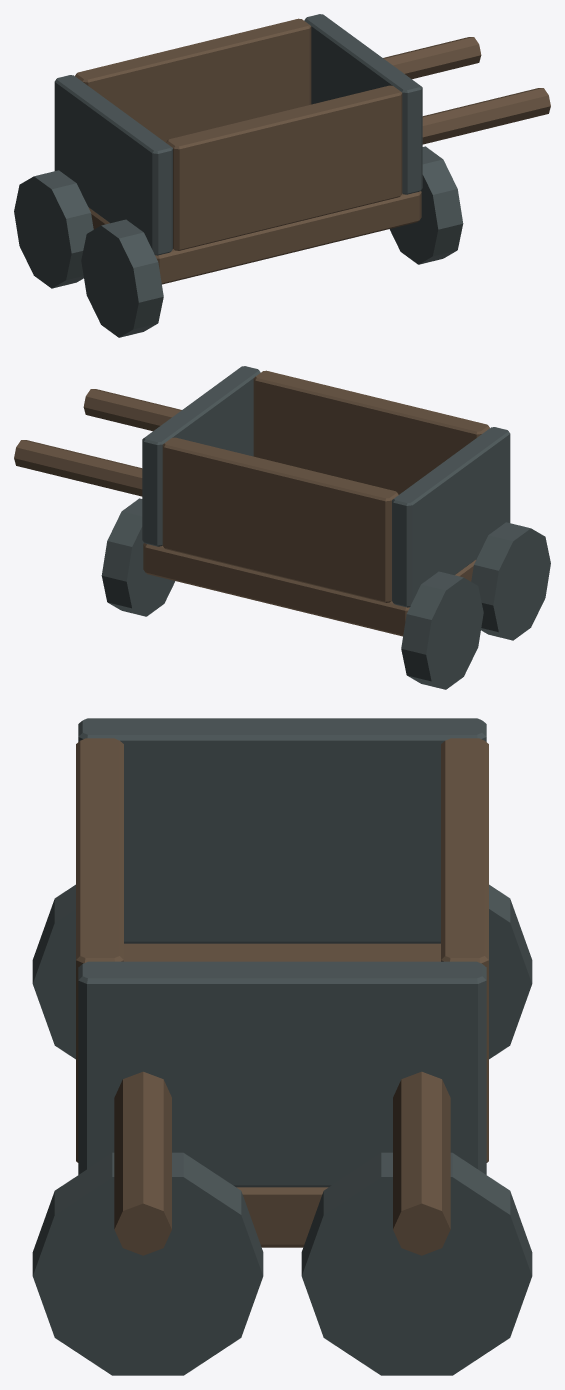
Rendered from cart.glb.
The picture shows the model from 3 angles, top to bottom: view 1: azimuth 30°, elevation 25°; view 2: azimuth 150°, elevation 25°; view 3: azimuth 270°, elevation 25°; orthographic projection. The views are drawn at different scales.
Parts seen in each view (by area): view 1: cart__body; view 2: cart__body; view 3: cart__body.
Part boxes in pixels (x1=…): cart__body: x1=14, y1=14, x2=550, y2=337; cart__body: x1=14, y1=366, x2=550, y2=689; cart__body: x1=32, y1=718, x2=532, y2=1375.
Size of the model in its own units: 2.08 by 0.8483 by 1.04.
